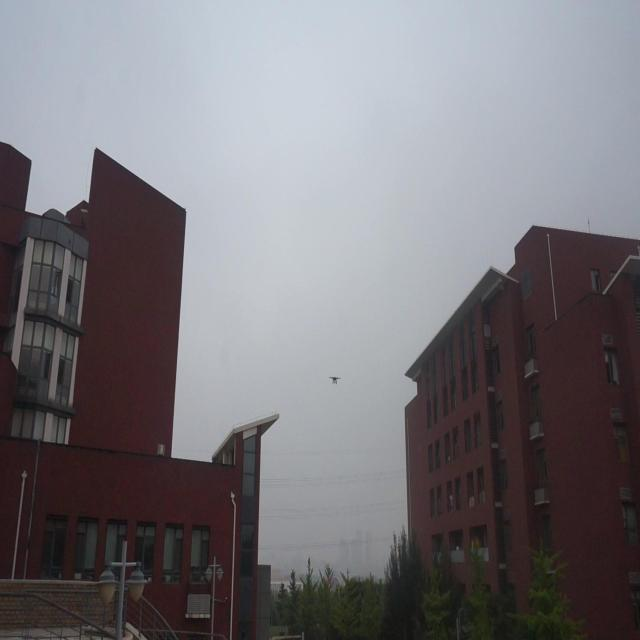drone: (328, 372, 341, 387)
